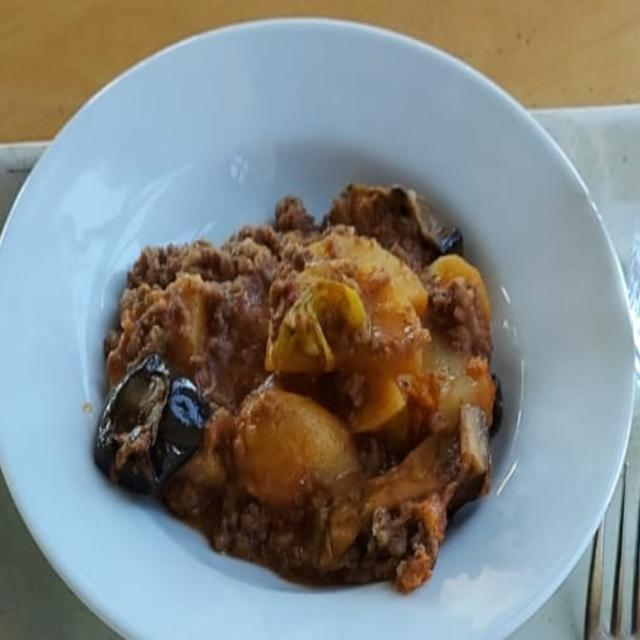ana_yemek: (93, 180, 502, 594)
